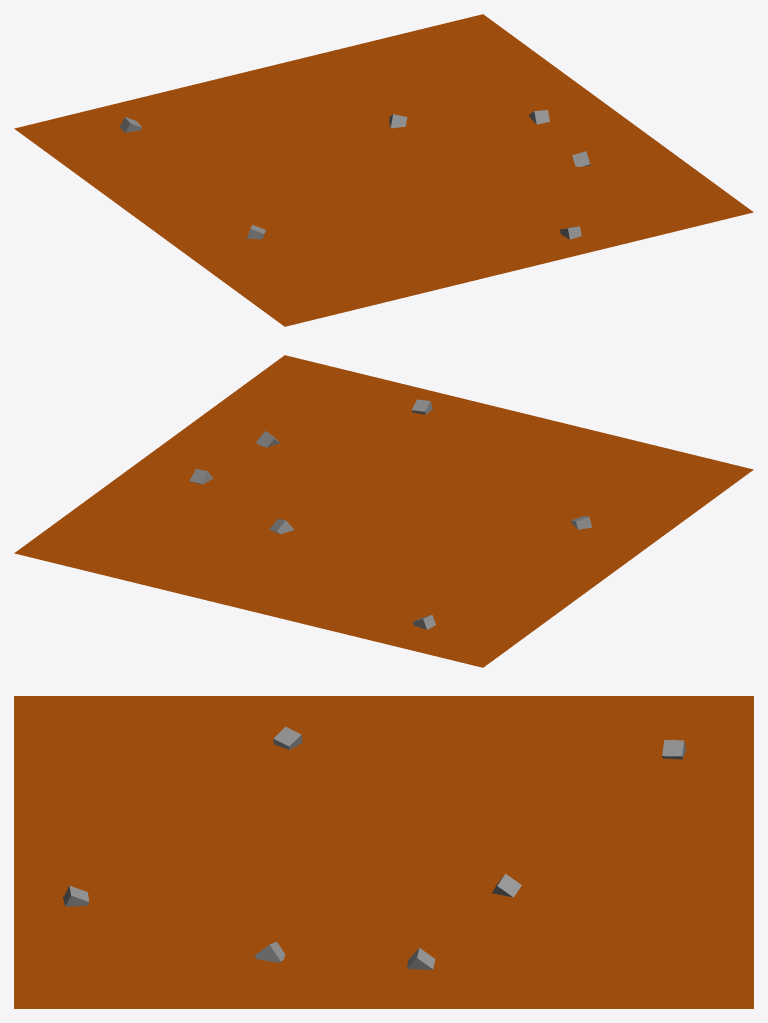
The model's file is sol map clair2.fbx.
The picture shows the model from 3 angles, top to bottom: view 1: azimuth 30°, elevation 25°; view 2: azimuth 150°, elevation 25°; view 3: azimuth 270°, elevation 25°; orthographic projection. The views are drawn at different scales.
Parts seen in each view (by area): view 1: sol claire 2; view 2: sol claire 2; view 3: sol claire 2.
Part boxes in pixels (box(x1,y1,x2,y2)): sol claire 2: box(14, 14, 753, 326); sol claire 2: box(14, 355, 753, 667); sol claire 2: box(14, 696, 753, 1008).
Bounding box in the file's own units: 200 × 8.84 × 200.
